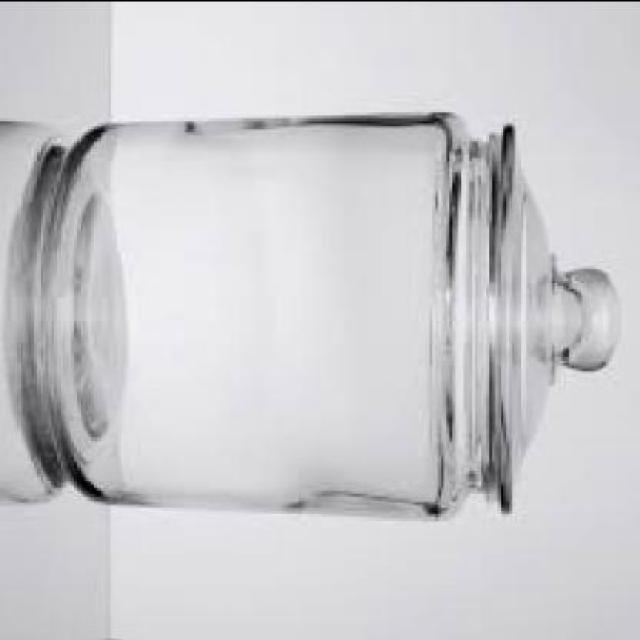GLASS: (43, 108, 623, 514)
